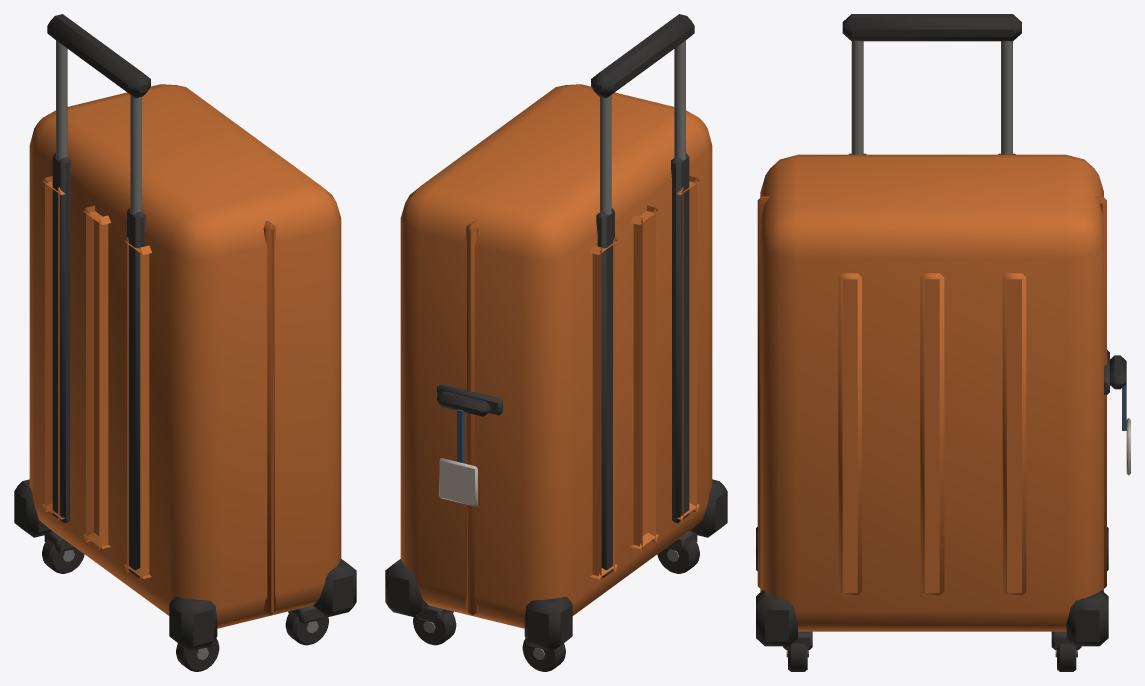
The picture shows the model from 3 angles, left to right: view 1: azimuth 30°, elevation 25°; view 2: azimuth 150°, elevation 25°; view 3: azimuth 270°, elevation 25°; orthographic projection.
Parts seen in each view (by area): view 1: C15_case, C15_handle; view 2: C15_case, C15_handle; view 3: C15_case, C15_handle.
Boxes of the visible parts, bbox=[...] form: C15_case: bbox=[14, 84, 356, 671]; C15_handle: bbox=[47, 14, 150, 214]; C15_case: bbox=[385, 84, 727, 671]; C15_handle: bbox=[591, 14, 694, 214]; C15_case: bbox=[756, 153, 1130, 671]; C15_handle: bbox=[842, 14, 1021, 154].
Bounding box in the file's own units: 0.288 × 0.8641 × 0.502.
